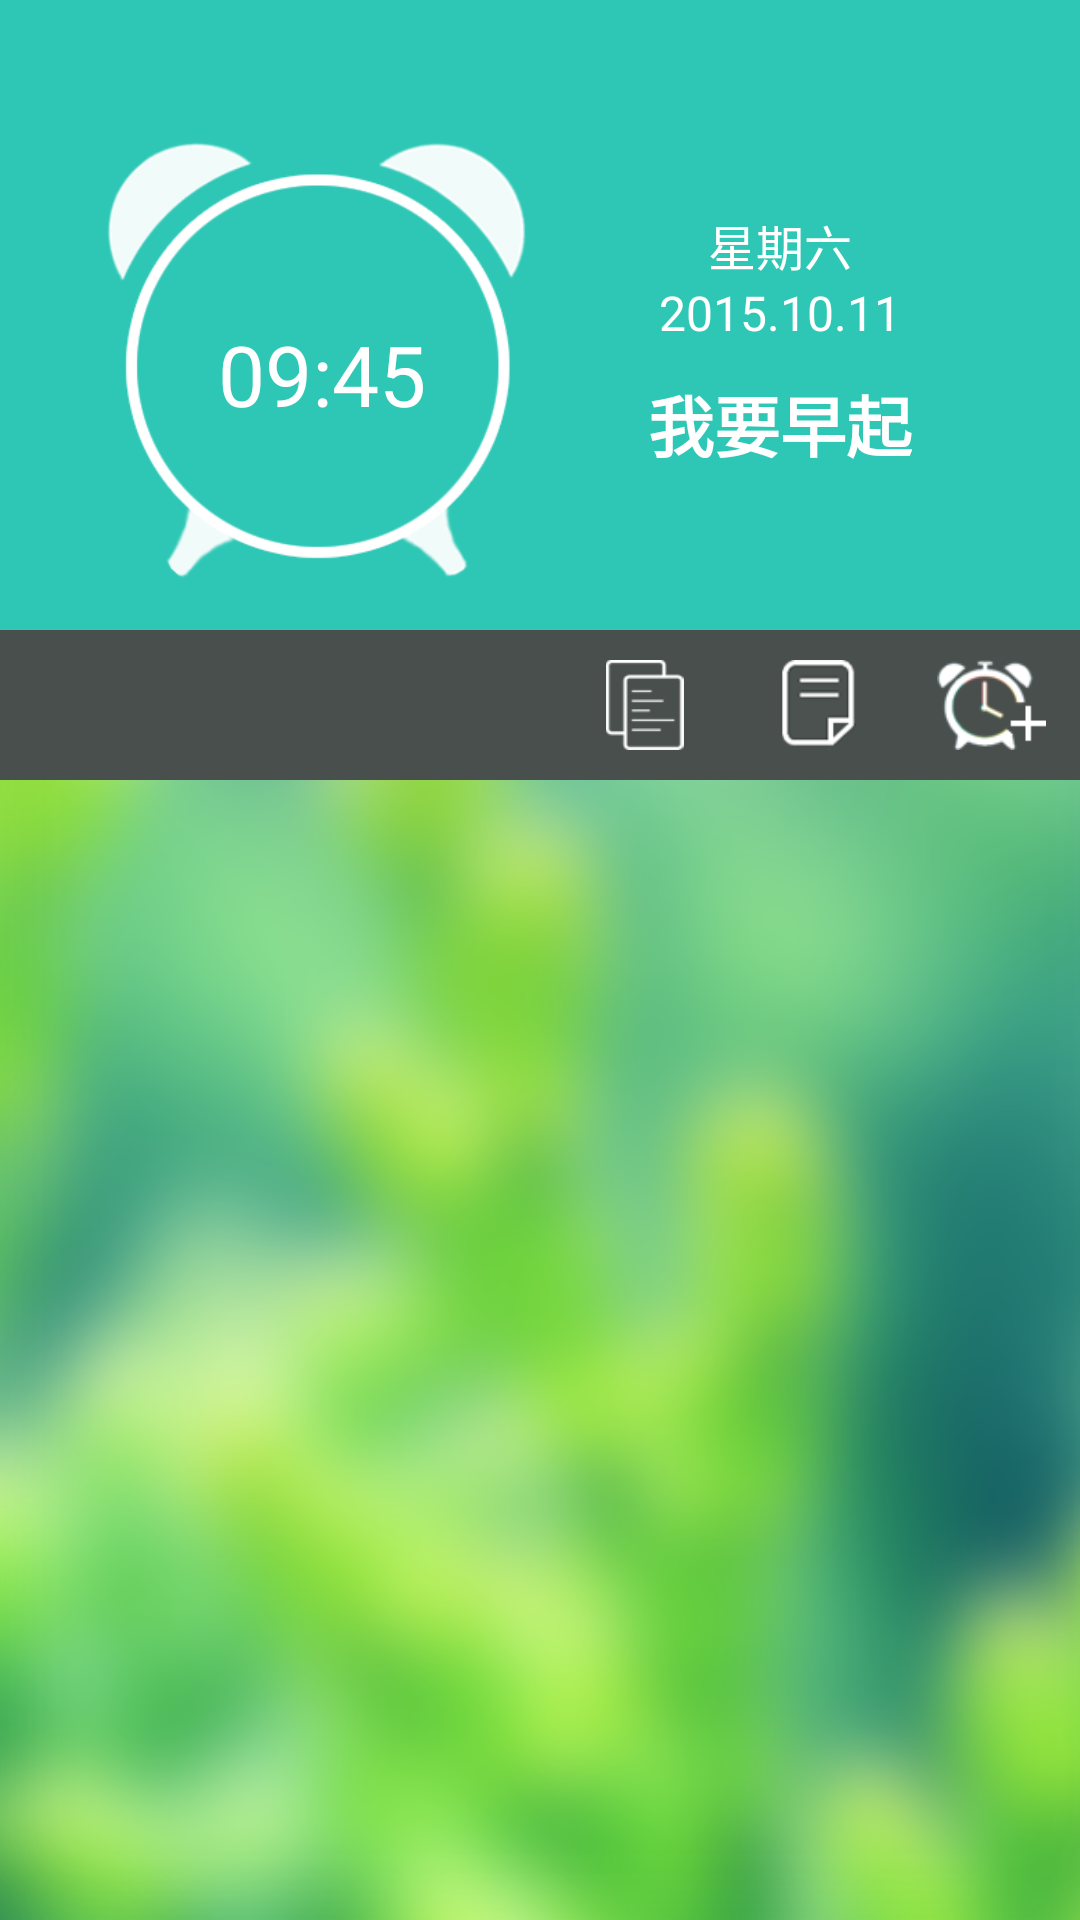

Where icons sit on this 1080 × 1920 app screen, as (x1, y1, x2, y2):
addalarm: (937, 661, 1046, 750)
